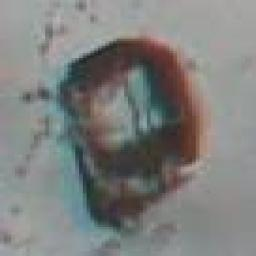crystals: (56, 38, 200, 228)
